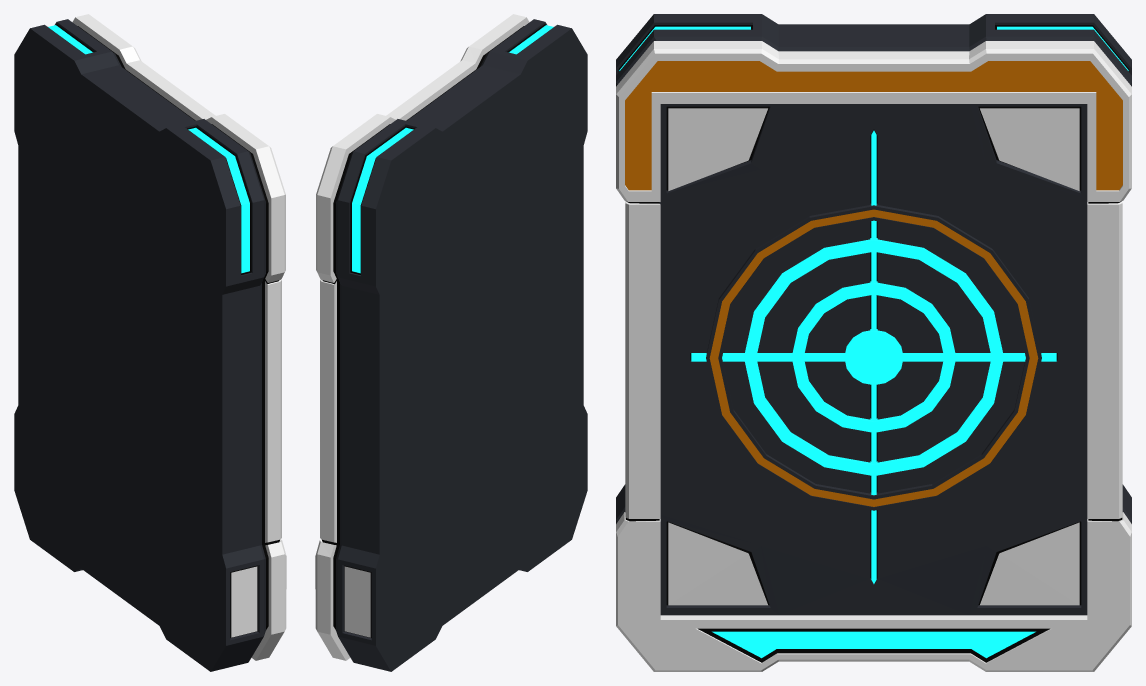
Rendered from SM_WallTarget.fbx.
The picture shows the model from 3 angles, left to right: view 1: azimuth 30°, elevation 25°; view 2: azimuth 150°, elevation 25°; view 3: azimuth 270°, elevation 25°; orthographic projection. The views are drawn at different scales.
Parts seen in each view (by area): view 1: SM_WallTarget; view 2: SM_WallTarget; view 3: SM_WallTarget.
Part boxes in pixels (left/top/right/bottom): SM_WallTarget: left=14, top=14, right=286, bottom=671; SM_WallTarget: left=315, top=14, right=587, bottom=671; SM_WallTarget: left=616, top=14, right=1131, bottom=671.
Size of the model in its own units: 10 by 80 by 60.
